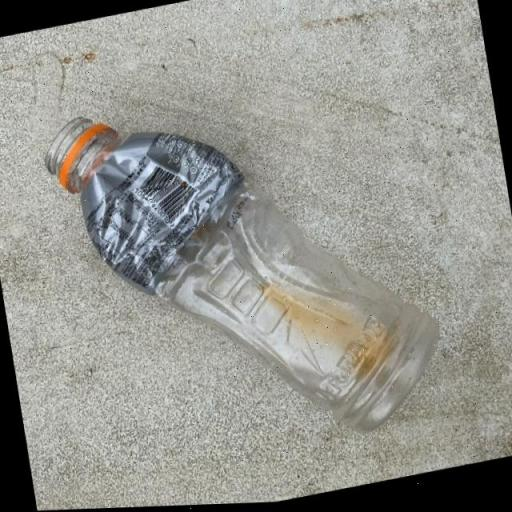plastic: (37, 54, 454, 488)
